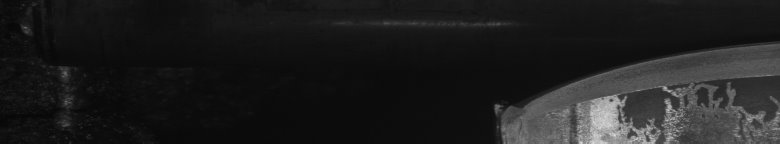kb: (584, 0, 776, 144)
